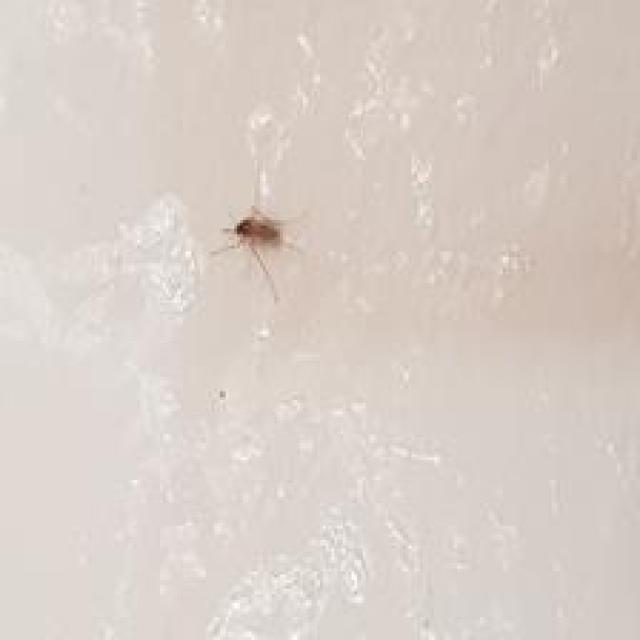Culex: (208, 204, 306, 304)
